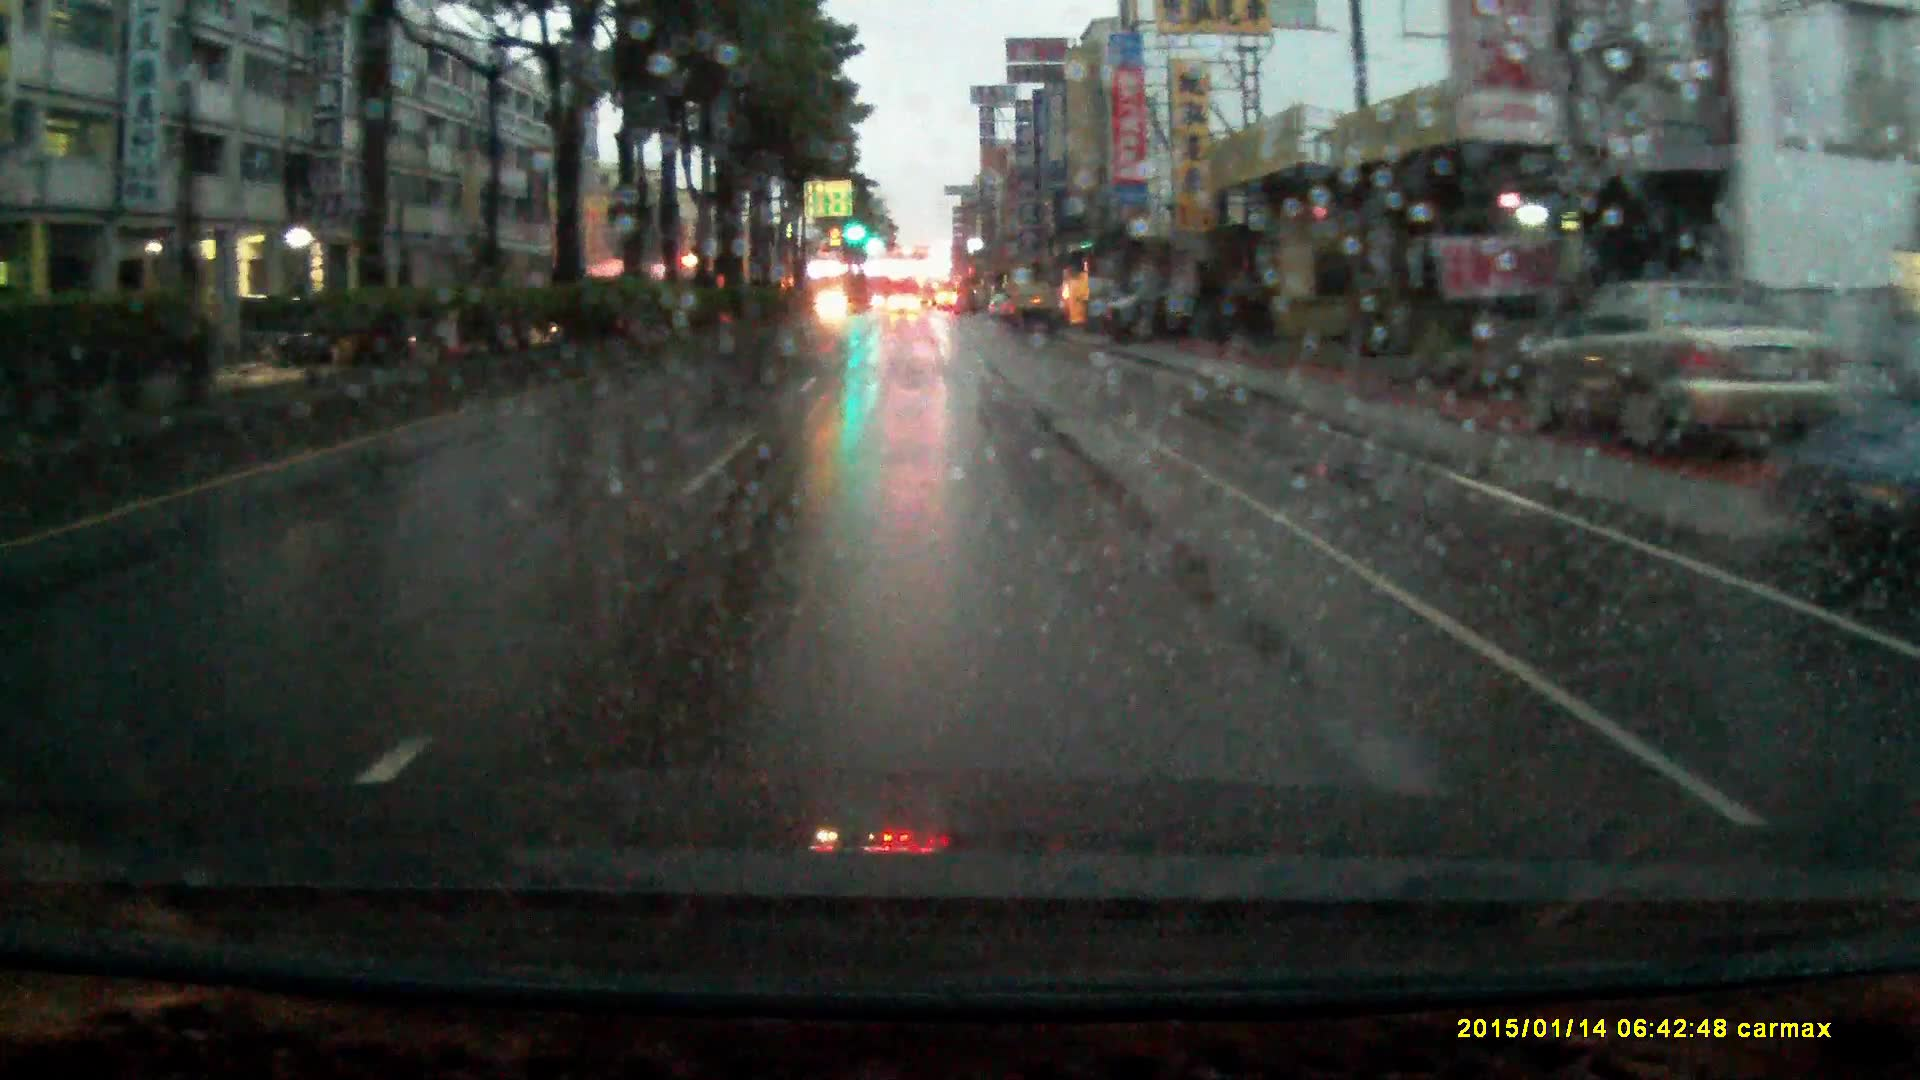vehicle: (1553, 278, 1844, 463), (1087, 280, 1269, 338), (1006, 280, 1058, 334), (886, 291, 920, 314)
